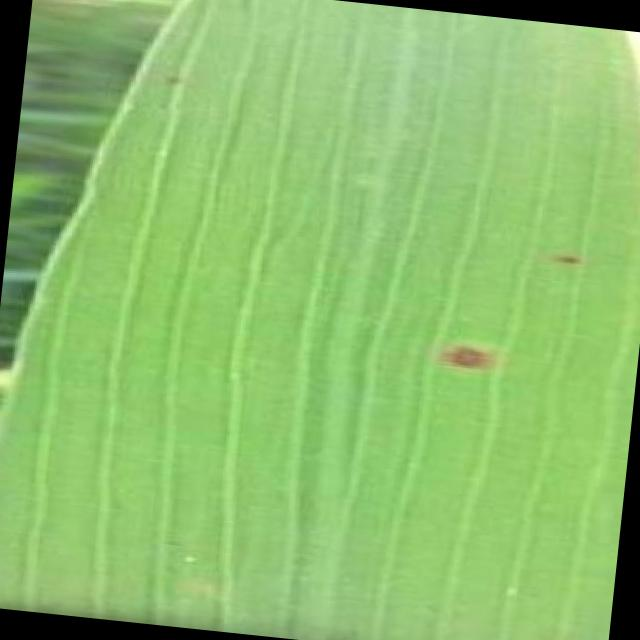Rice_Brownspot: (428, 326, 501, 382), (540, 240, 592, 270), (156, 63, 190, 92)
